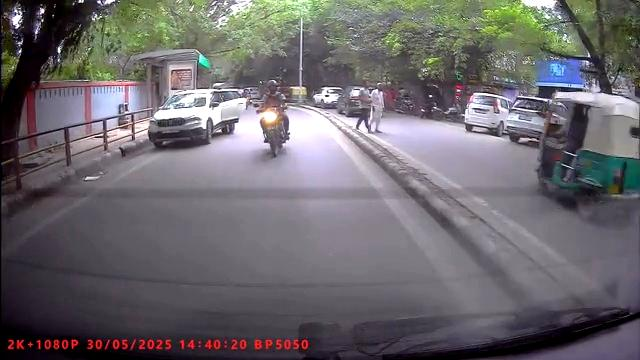motorcycle_with_helmet: (257, 78, 292, 158)
